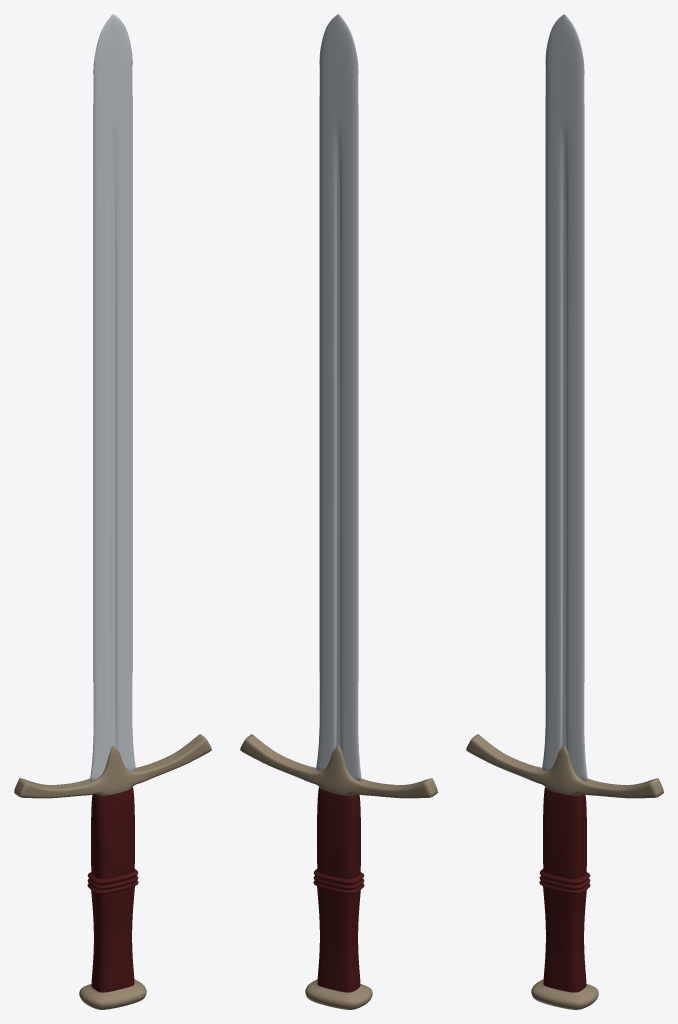
The model's file is Placeholder_Sword.fbx.
3 renders of one model, left to right at view 1: azimuth 30°, elevation 25°; view 2: azimuth 150°, elevation 25°; view 3: azimuth 330°, elevation 25°, orthographic.
Visible parts, largest first — view 1: Cube; view 2: Cube; view 3: Cube.
Boxes of the visible parts, x1,y1,x2,y2 form: Cube: [14, 14, 211, 1009]; Cube: [240, 14, 437, 1009]; Cube: [466, 14, 663, 1009].
Bounding box in the file's own units: 26.62 × 5.86 × 131.
